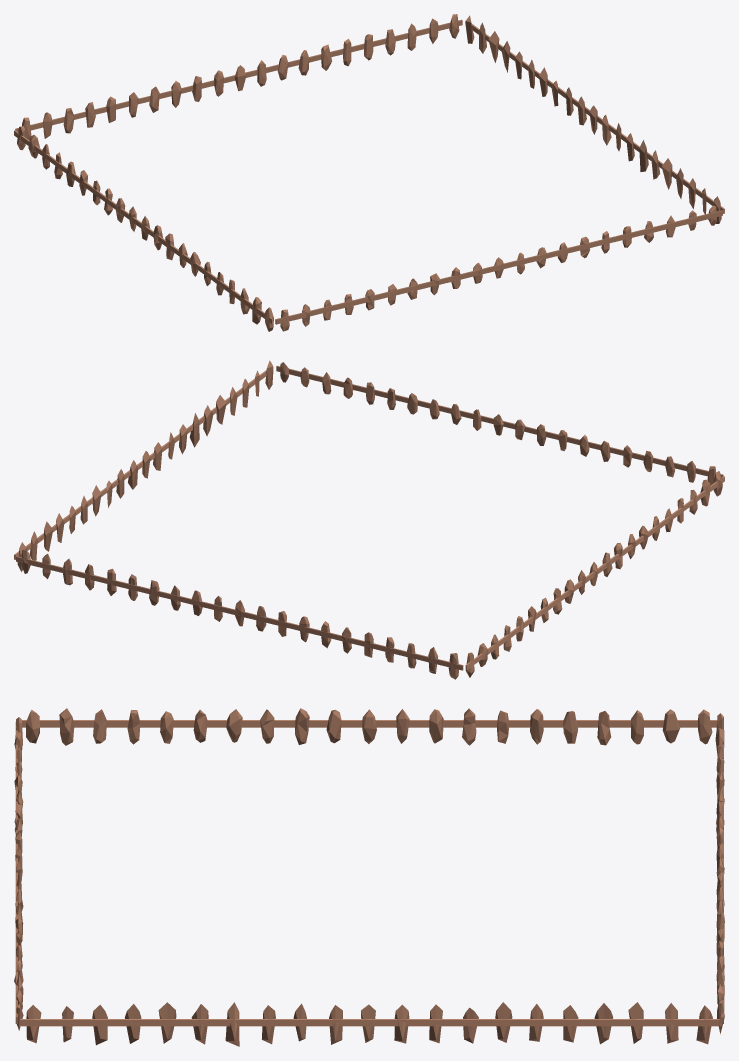
Rendered from Fence.fbx.
The picture shows the model from 3 angles, top to bottom: view 1: azimuth 30°, elevation 25°; view 2: azimuth 150°, elevation 25°; view 3: azimuth 270°, elevation 25°; orthographic projection. The views are drawn at different scales.
Visible parts, largest first — view 1: Fence; view 2: Fence; view 3: Fence.
Boxes of the visible parts, x1,y1,x2,y2 form: Fence: [14, 14, 724, 331]; Fence: [14, 360, 724, 679]; Fence: [14, 708, 724, 1046].
Bounding box in the file's own units: 1108 × 77.91 × 1097.
